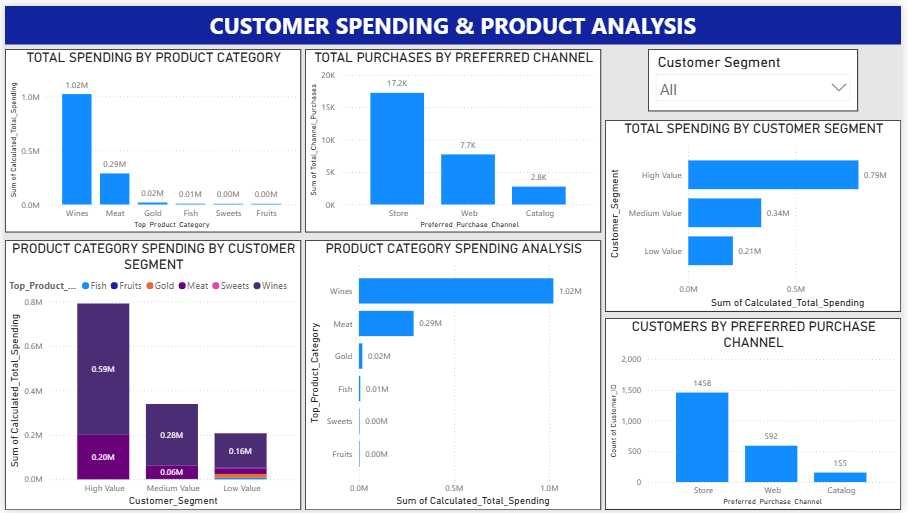

What the dashboard file says about the page in this screenshot:
{"tool":"powerbi","page":{"name":"CUSTOMER SPENDING & PRODUCT ANALYSIS","canvas":[1280,720],"ordinal":3},"visuals":[{"type":"textbox","box":[0,0,1280,55.2],"z":0},{"type":"clusteredColumnChart","title":"TOTAL SPENDING BY PRODUCT CATEGORY","fields":{"Category":["Food_Marketing_Analytics.Top_Product_Category"],"Y":["Sum(Food_Marketing_Analytics.Calculated_Total_Spending)"]},"box":[0,61.3,423.1,262.1],"z":1},{"type":"clusteredColumnChart","title":"TOTAL PURCHASES BY PREFERRED CHANNEL","fields":{"Category":["Food_Marketing_Analytics.Preferred_Purchase_Channel"],"Y":["Sum(Food_Marketing_Analytics.Total_Channel_Purchases)"]},"box":[429.2,61.3,423.1,262.1],"z":2},{"type":"clusteredBarChart","title":"TOTAL SPENDING BY CUSTOMER SEGMENT","fields":{"Y":["Sum(Food_Marketing_Analytics.Calculated_Total_Spending)"],"Category":["Food_Marketing_Analytics.Customer_Segment"]},"box":[856.9,162.5,423.1,274.4],"z":3},{"type":"columnChart","title":"PRODUCT CATEGORY SPENDING BY CUSTOMER SEGMENT","fields":{"Category":["Food_Marketing_Analytics.Customer_Segment"],"Y":["Sum(Food_Marketing_Analytics.Calculated_Total_Spending)"],"Series":["Food_Marketing_Analytics.Top_Product_Category"]},"box":[0,334.2,423.1,386.3],"z":4},{"type":"clusteredBarChart","title":"PRODUCT CATEGORY SPENDING ANALYSIS","fields":{"Category":["Food_Marketing_Analytics.Top_Product_Category"],"Y":["Sum(Food_Marketing_Analytics.Calculated_Total_Spending)"]},"box":[429.2,334.2,423.1,386.3],"z":5},{"type":"clusteredColumnChart","title":"CUSTOMERS BY PREFERRED PURCHASE CHANNEL","fields":{"Category":["Food_Marketing_Analytics.Preferred_Purchase_Channel"],"Y":["CountNonNull(Food_Marketing_Analytics.Customer_ID)"]},"box":[856.9,446.1,423.1,274.4],"z":6},{"type":"slicer","fields":{"Values":["Food_Marketing_Analytics.Customer_Segment"]},"box":[918.2,61.3,300.5,88.9],"z":7}]}

Visuals, with their boxes in screenshot pixels (x1, y1, x2, y2), scaled from the page's 1280x720 canvas onto the 908x513 screenshot:
textbox: [x1=0, y1=0, x2=907, y2=39]
"TOTAL SPENDING BY PRODUCT CATEGORY" clusteredColumnChart: [x1=0, y1=44, x2=300, y2=230]
"TOTAL PURCHASES BY PREFERRED CHANNEL" clusteredColumnChart: [x1=304, y1=44, x2=605, y2=230]
"TOTAL SPENDING BY CUSTOMER SEGMENT" clusteredBarChart: [x1=608, y1=116, x2=907, y2=311]
"PRODUCT CATEGORY SPENDING BY CUSTOMER SEGMENT" columnChart: [x1=0, y1=238, x2=300, y2=512]
"PRODUCT CATEGORY SPENDING ANALYSIS" clusteredBarChart: [x1=304, y1=238, x2=605, y2=512]
"CUSTOMERS BY PREFERRED PURCHASE CHANNEL" clusteredColumnChart: [x1=608, y1=318, x2=907, y2=512]
slicer - Food_Marketing_Analytics.Customer_Segment: [x1=651, y1=44, x2=865, y2=107]
